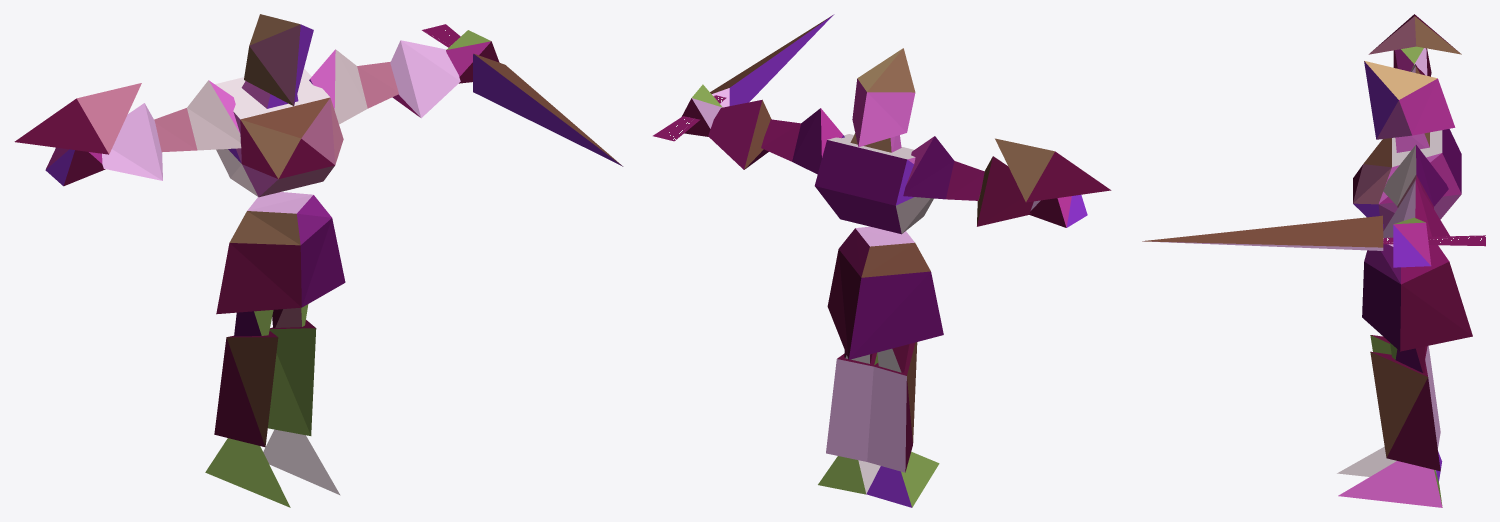
3 views of the same model, side by side, from view 1: azimuth 30°, elevation 25°; view 2: azimuth 150°, elevation 25°; view 3: azimuth 270°, elevation 25° (orthographic). The views are drawn at different scales.
Parts seen in each view (by area): view 1: Nemu_60999451_0_043, Nemu_60999451_0_044, Nemu_60999451_0_062, Nemu_60999451_0_053, Nemu_60999451_0_058, Nemu_60999451_0_055, Nemu_60999451_0_050, Nemu_60999451_0_048, Nemu_60999451_0_045, Nemu_60999451_0_046, Nemu_60999451_0_051, Nemu_60999451_0_063 (+4 smaller); view 2: Nemu_60999451_0_043, Nemu_60999451_0_044, Nemu_60999451_0_062, Nemu_60999451_0_055, Nemu_60999451_0_058, Nemu_60999451_0_053, Nemu_60999451_0_050, Nemu_60999451_0_046, Nemu_60999451_0_045, Nemu_60999451_0_048, Nemu_60999451_0_051, Nemu_60999451_0_063 (+5 smaller); view 3: Nemu_60999451_0_043, Nemu_60999451_0_058, Nemu_60999451_0_055, Nemu_60999451_0_044, Nemu_60999451_0_048, Nemu_60999451_0_059, Nemu_60999451_0_045, Nemu_60999451_0_047, Nemu_60999451_0_053, Nemu_60999451_0_046, Nemu_60999451_0_063, Nemu_60999451_0_062 (+4 smaller).
Part boxes in pixels (x1,y1,x2,y2): Nemu_60999451_0_043: (216, 192, 345, 314); Nemu_60999451_0_044: (215, 68, 343, 197); Nemu_60999451_0_062: (214, 330, 278, 447); Nemu_60999451_0_053: (14, 83, 141, 154); Nemu_60999451_0_058: (268, 320, 316, 435); Nemu_60999451_0_055: (244, 14, 313, 106); Nemu_60999451_0_050: (154, 80, 241, 152); Nemu_60999451_0_048: (473, 53, 623, 166); Nemu_60999451_0_045: (309, 49, 398, 124); Nemu_60999451_0_046: (390, 40, 460, 118); Nemu_60999451_0_051: (102, 103, 162, 180); Nemu_60999451_0_063: (205, 438, 290, 507); Nemu_60999451_0_043: (827, 226, 943, 359); Nemu_60999451_0_044: (814, 134, 933, 234); Nemu_60999451_0_062: (867, 342, 917, 472); Nemu_60999451_0_055: (852, 48, 915, 147); Nemu_60999451_0_058: (826, 352, 878, 461); Nemu_60999451_0_053: (995, 138, 1111, 202); Nemu_60999451_0_050: (903, 136, 984, 200); Nemu_60999451_0_046: (708, 99, 771, 169); Nemu_60999451_0_045: (761, 108, 844, 174); Nemu_60999451_0_048: (710, 14, 834, 107); Nemu_60999451_0_051: (977, 156, 1033, 226); Nemu_60999451_0_063: (866, 452, 939, 507); Nemu_60999451_0_043: (1362, 244, 1472, 351); Nemu_60999451_0_058: (1370, 351, 1440, 471); Nemu_60999451_0_055: (1364, 61, 1455, 139); Nemu_60999451_0_044: (1353, 129, 1461, 230); Nemu_60999451_0_048: (1142, 215, 1383, 250); Nemu_60999451_0_059: (1338, 461, 1442, 507); Nemu_60999451_0_045: (1383, 145, 1448, 208); Nemu_60999451_0_047: (1393, 217, 1431, 267); Nemu_60999451_0_053: (1368, 14, 1461, 54); Nemu_60999451_0_046: (1383, 179, 1449, 237); Nemu_60999451_0_063: (1337, 446, 1442, 481); Nemu_60999451_0_062: (1370, 335, 1440, 448).
Bounding box in the file's own units: 0.6065 × 0.5641 × 0.4167.
1 material, 1 textured.
